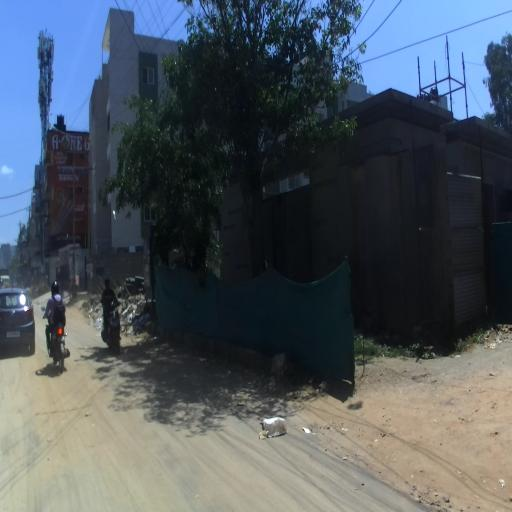street_light_0: (52, 127, 74, 142)
